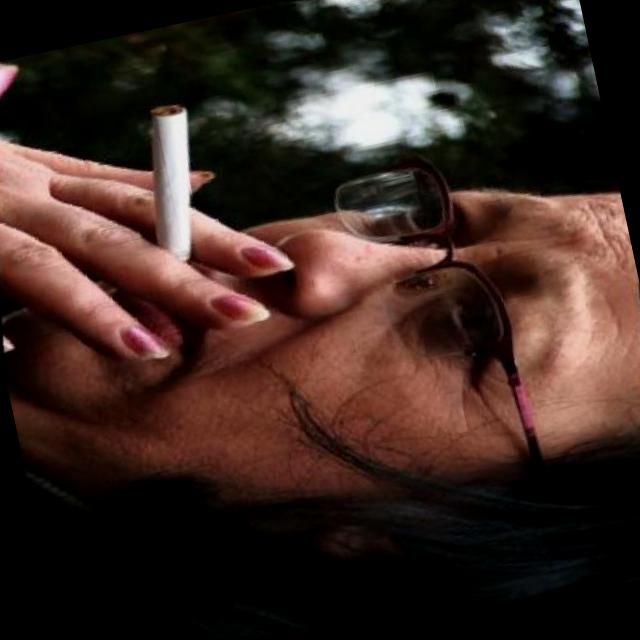cigarette: (118, 95, 219, 274)
